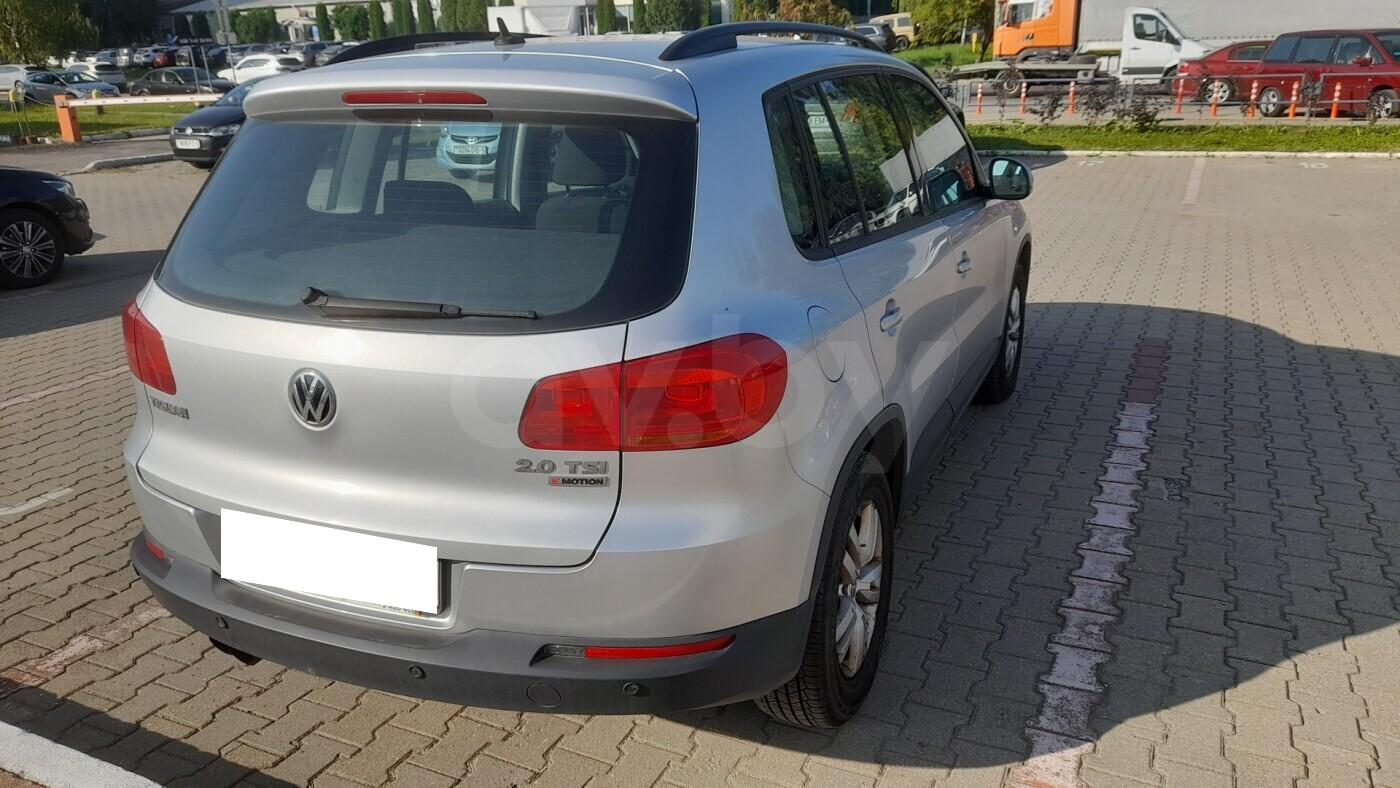Tiguan_2011-2018: (107, 31, 1040, 722)
